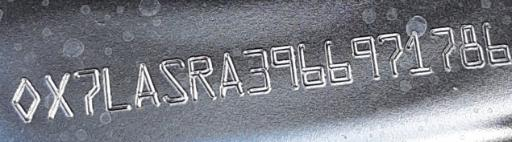letter: (267, 41, 305, 95), (240, 44, 276, 98), (154, 54, 190, 107), (98, 63, 134, 116), (72, 64, 106, 120), (40, 69, 76, 121), (184, 51, 218, 105), (348, 33, 384, 81), (322, 37, 358, 85), (214, 51, 248, 101), (295, 39, 327, 91), (402, 28, 436, 76), (456, 22, 486, 75), (429, 24, 459, 74), (376, 29, 404, 82), (482, 18, 510, 69), (131, 62, 161, 109)
